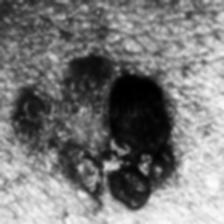Potentially Malignant Skin Tumors: (13, 60, 169, 218)
